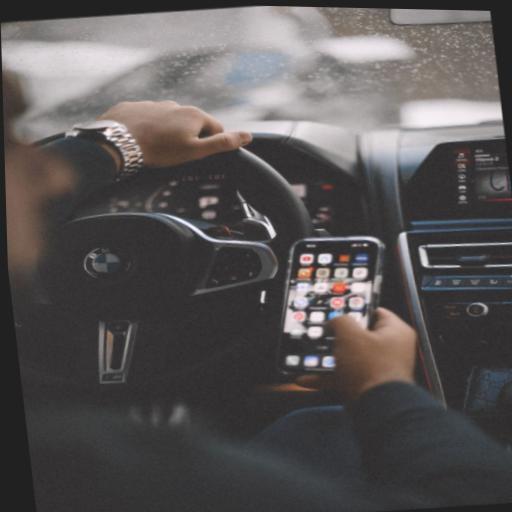Hands-on-the-Wheel: (59, 60, 275, 196)
